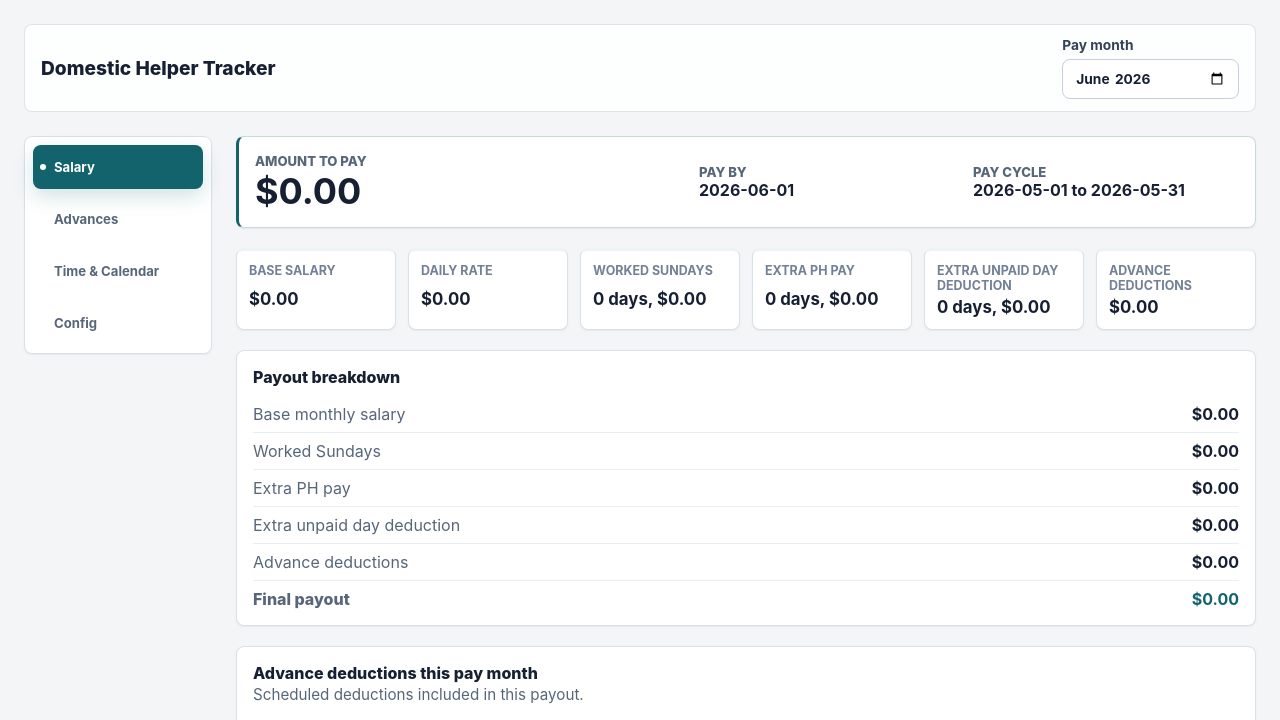
Test: App › does not connect legacy local ids returned by stale creation code
Click the button "Config": (118, 323) [33, 301, 203, 345]
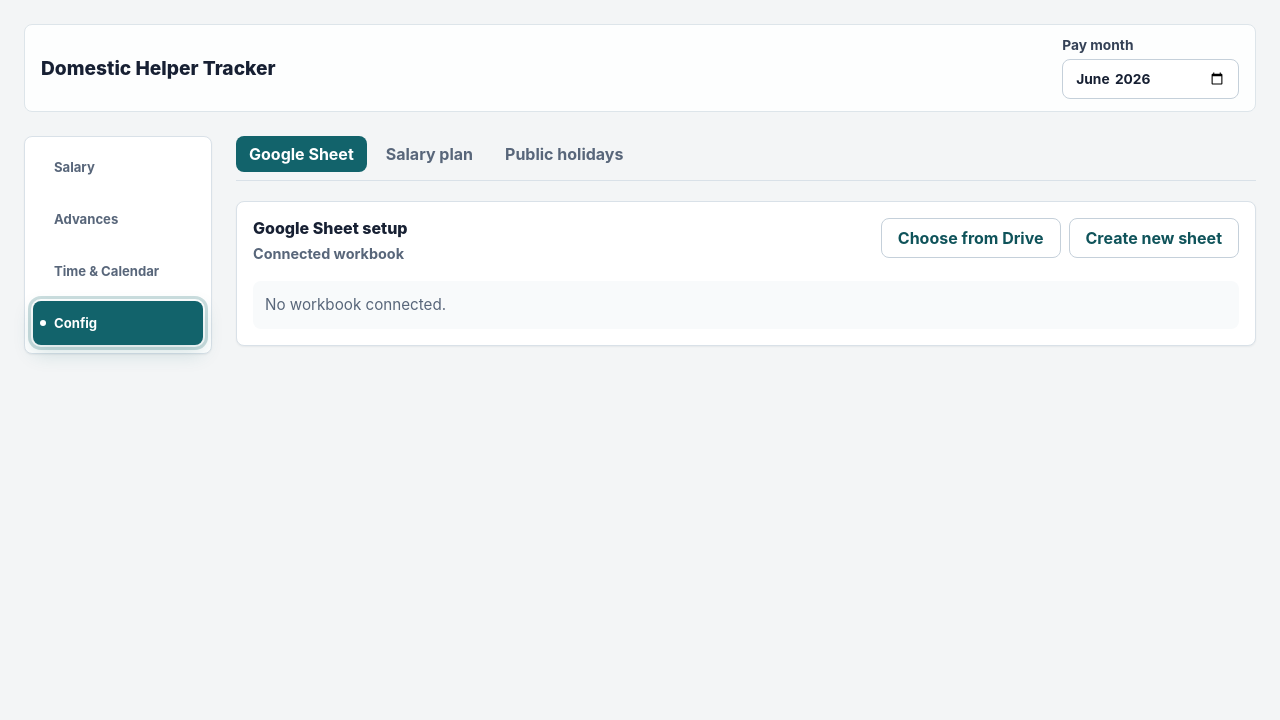
Click the button "Create new sheet": (1154, 238) [1068, 218, 1239, 258]
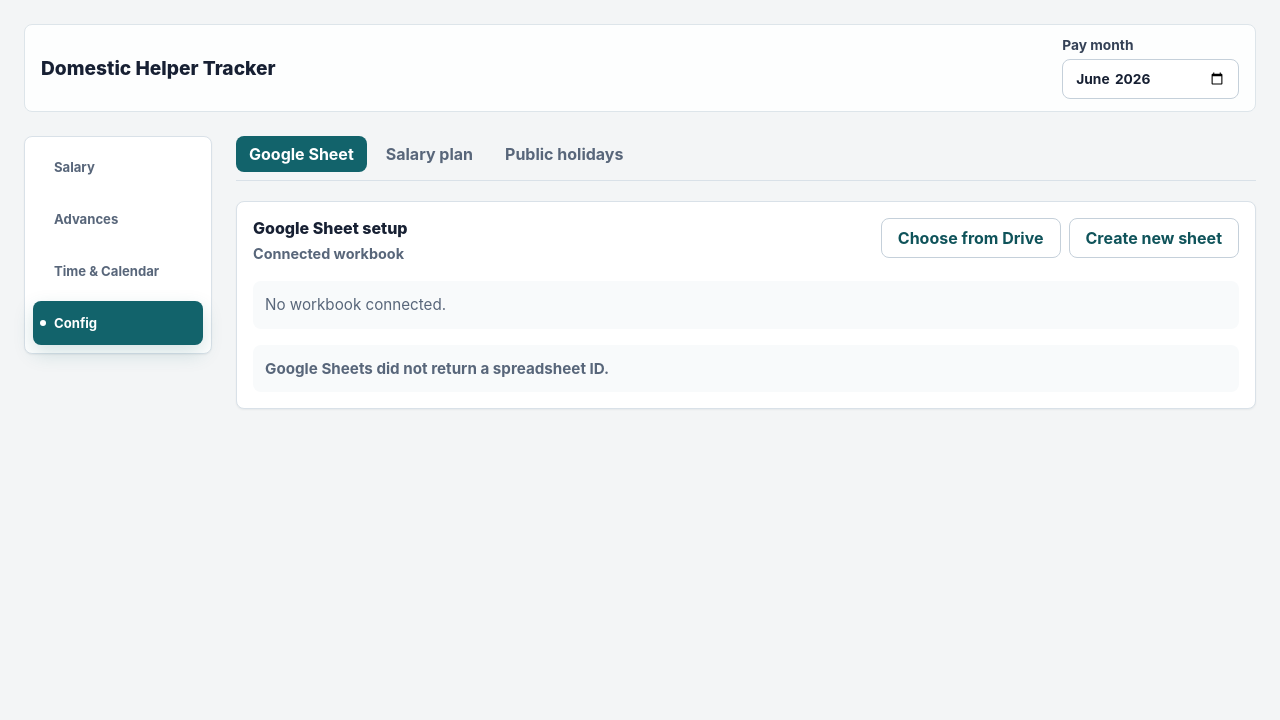
Now the text "Google Sheets did not return a spreadsheet ID." is shown, box [253, 345, 1239, 392]
